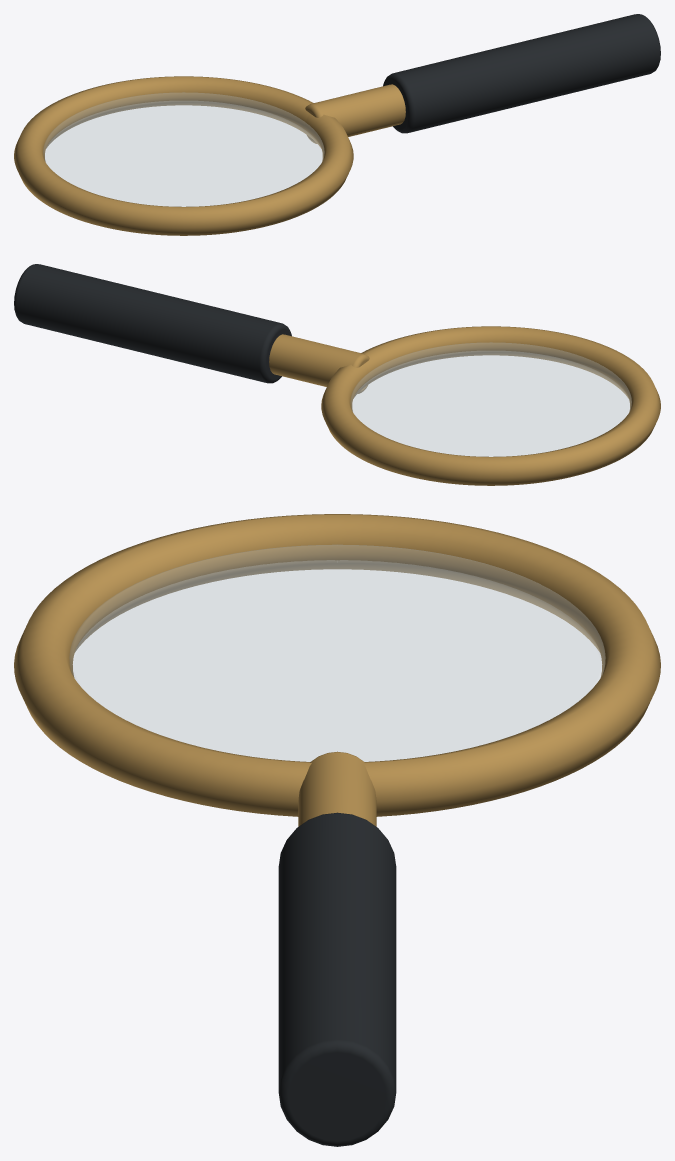
The model's file is estacoes_lupa.glb.
The picture shows the model from 3 angles, top to bottom: view 1: azimuth 30°, elevation 25°; view 2: azimuth 150°, elevation 25°; view 3: azimuth 270°, elevation 25°; orthographic projection. The views are drawn at different scales.
Visible parts, largest first — view 1: lupa; view 2: lupa; view 3: lupa.
Part boxes in pixels (x1,y1,x2,y2): lupa: (14,14,660,235); lupa: (14,264,660,485); lupa: (14,514,660,1146).
Bounding box in the file's own units: 0.274 × 0.024 × 0.132.
